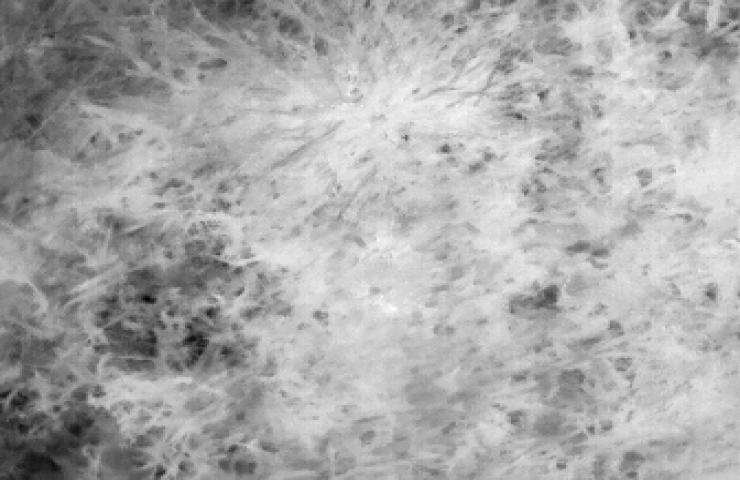landmines: (345, 227, 428, 322)
